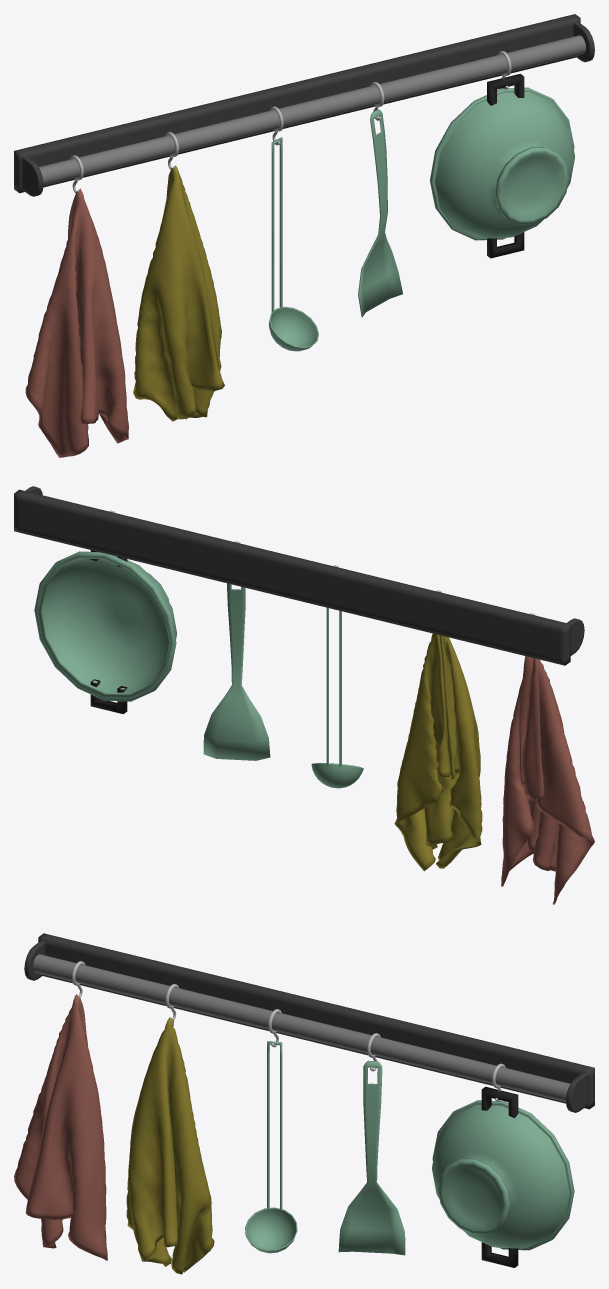
The model's file is set_2.obj.
3 renders of one model, top to bottom at view 1: azimuth 30°, elevation 25°; view 2: azimuth 150°, elevation 25°; view 3: azimuth 330°, elevation 25°, orthographic.
Visible parts, largest first — view 1: set_2; view 2: set_2; view 3: set_2.
Part boxes in pixels (x1=…): set_2: x1=14, y1=14, x2=594, y2=457; set_2: x1=14, y1=486, x2=594, y2=904; set_2: x1=14, y1=933, x2=594, y2=1274.
Size of the model in its own units: 95.89 by 48.49 by 13.3.
